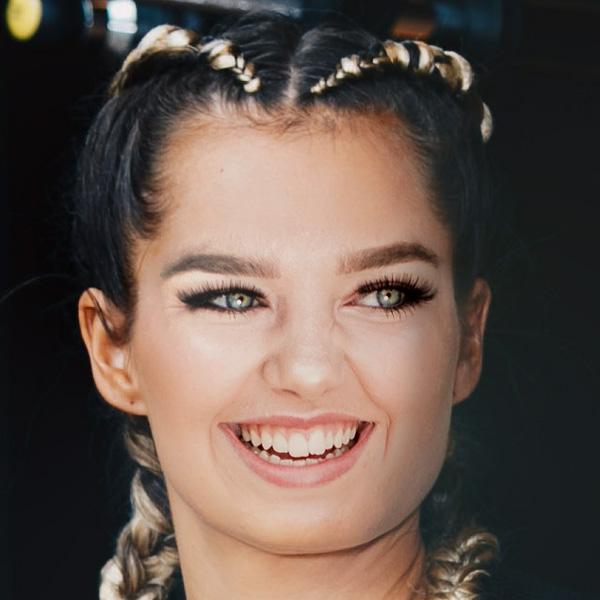Eyes: (333, 270, 442, 325), (172, 271, 276, 325)
